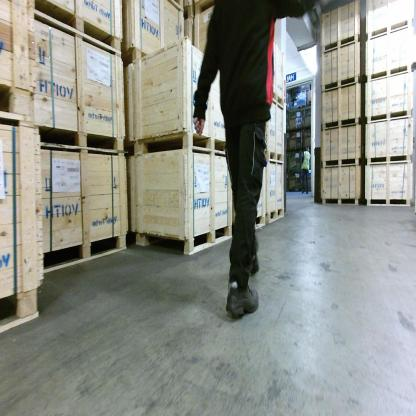pallet: (307, 102, 313, 108)
stillage: (287, 108, 304, 132), (287, 128, 303, 152), (287, 172, 304, 192), (287, 151, 303, 172), (302, 170, 313, 192), (303, 150, 314, 171), (302, 108, 313, 129), (303, 128, 313, 151), (286, 93, 292, 113)
